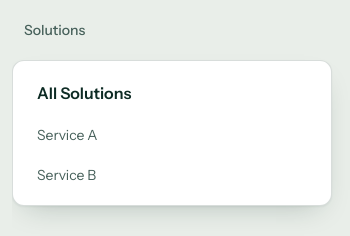
Test case: MegaMenu › closes when Escape is pressed
Click the button "Solutions" at [55, 30], box [12, 12, 97, 48]
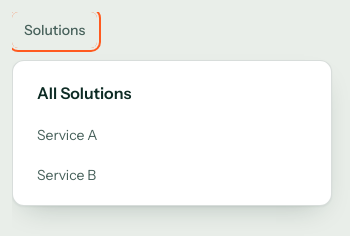
Expected: the menu item "Service A" is shown, [37, 126, 98, 144]
Press Escape
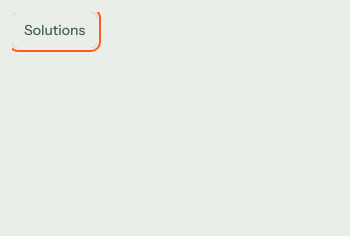
Result: the menu item "Service A" is gone
